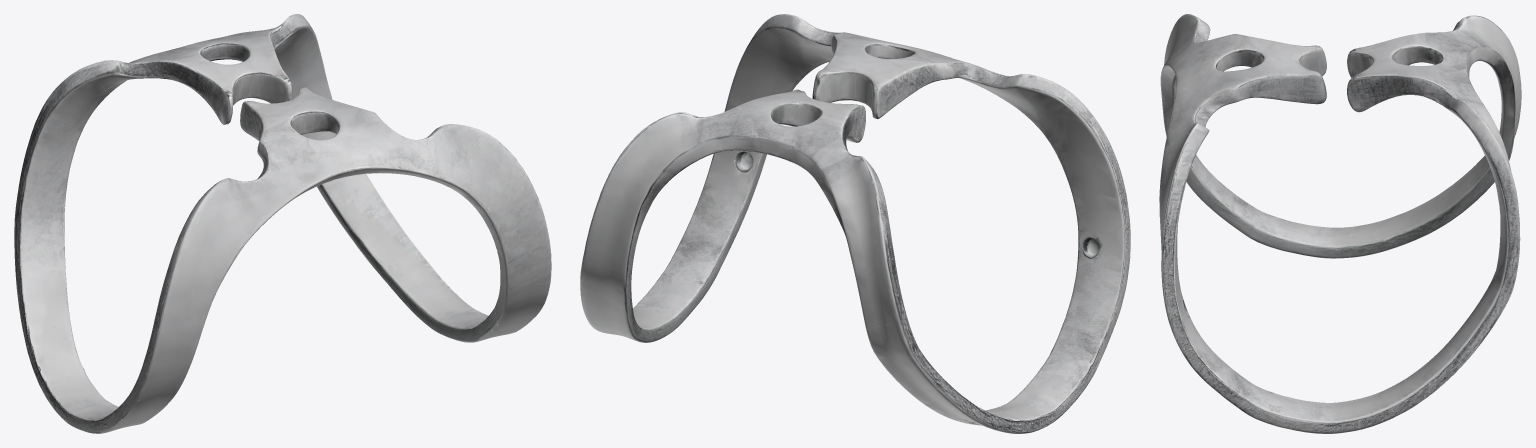
The picture shows the model from 3 angles, left to right: view 1: azimuth 30°, elevation 25°; view 2: azimuth 150°, elevation 25°; view 3: azimuth 270°, elevation 25°; orthographic projection. The views are drawn at different scales.
Parts seen in each view (by area): view 1: clamp; view 2: clamp; view 3: clamp.
Boxes of the visible parts, x1,y1,x2,y2 form: clamp: [14, 14, 551, 433]; clamp: [580, 14, 1130, 433]; clamp: [1159, 14, 1521, 433].
Size of the model in its own units: 0.00977 by 0.00651 by 0.00756.
1 material, 1 textured.
